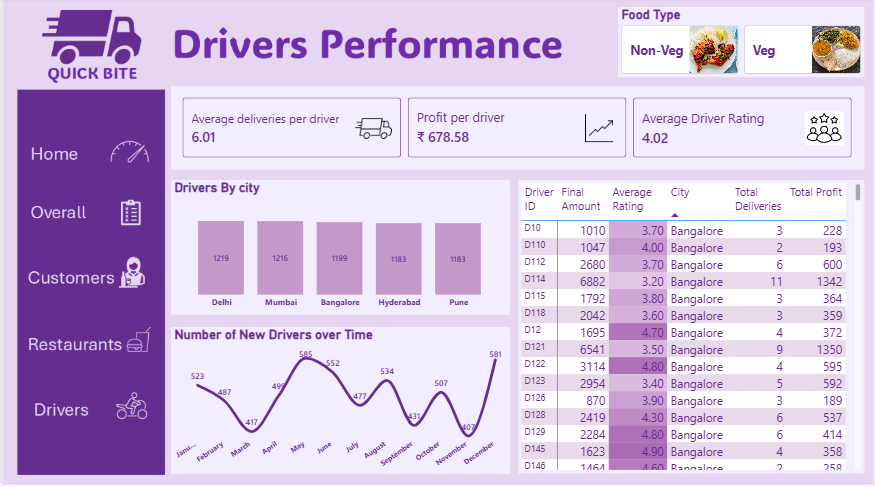

Layout of this report page (visuals, bound fields, positions):
{"tool":"powerbi","page":{"name":"Drivers","canvas":[1280,720],"ordinal":4},"visuals":[{"type":"columnChart","title":"Drivers By city","fields":{"Category":["master_sheet.City"],"Y":["CountNonNull(master_sheet.Driver_ID)"]},"box":[248.8,269.2,497.5,198.4],"z":0},{"type":"pivotTable","fields":{"Rows":["master_sheet.Driver_ID"],"Values":["Sum(master_sheet.Final_Amount)","Avg(master_sheet.Rating)","Min(master_sheet.City)","Count(master_sheet.Order_ID)","Sum(master_sheet.profit_per_order)"]},"box":[758.9,269.2,508.5,431.4],"z":1000},{"type":"advancedSlicerVisual","fields":{"Values":["master_sheet.food_type"]},"box":[905.4,14,362.1,103],"z":2000},{"type":"cardVisual","fields":{"Data":["master_sheet.Average deliveries per driver","master_sheet.Profit per driver","Avg(master_sheet.Rating)"]},"box":[248.8,130.7,1018.6,122.8],"z":3000},{"type":"lineChart","title":"Number of New Drivers over Time","fields":{"Category":["Drivers.Joining_Date.Variation.Date Hierarchy.Year","Drivers.Joining_Date.Variation.Date Hierarchy.Quarter","Drivers.Joining_Date.Variation.Date Hierarchy.Month","Drivers.Joining_Date.Variation.Date Hierarchy.Day"],"Y":["CountNonNull(master_sheet.Driver_ID)"]},"box":[248.8,484.9,497.5,215.7],"z":4000},{"type":"actionButton","box":[22.7,0,216.9,131.9],"z":4001},{"type":"pageNavigator","box":[22.7,160.8,216.9,505],"z":4002}]}

Visuals, with their boxes in screenshot pixels (x1, y1, x2, y2), scaled from the page's 1280x720 canvas onto the 875x487 screenshot:
"Drivers By city" columnChart: rect(170, 182, 510, 316)
pivotTable - master_sheet.Driver_ID x Sum(master_sheet.Final_Amount): rect(519, 182, 866, 474)
advancedSlicerVisual - master_sheet.food_type: rect(619, 9, 866, 79)
cardVisual - master_sheet.Average deliveries per driver x master_sheet.Profit per driver: rect(170, 88, 866, 171)
"Number of New Drivers over Time" lineChart: rect(170, 328, 510, 474)
actionButton: rect(16, 0, 164, 89)
pageNavigator: rect(16, 109, 164, 450)
